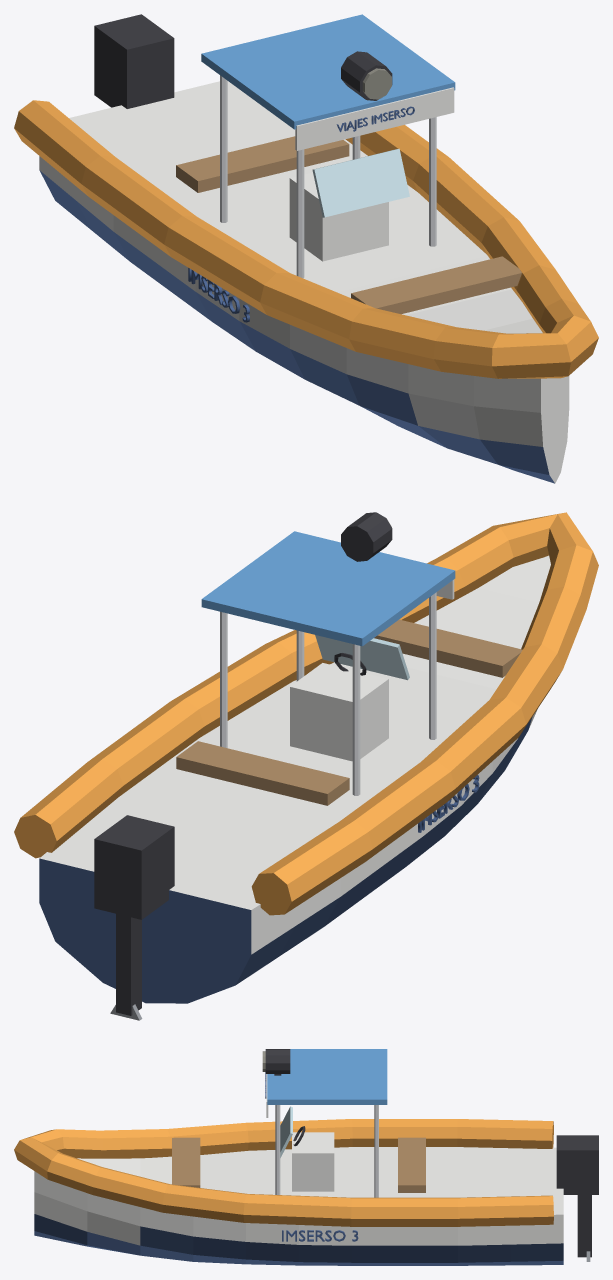
The model's file is CR_Lancha.fbx.
3 views of the same model, one above another, from view 1: azimuth 30°, elevation 25°; view 2: azimuth 150°, elevation 25°; view 3: azimuth 270°, elevation 25° (orthographic). The views are drawn at different scales.
Visible parts, largest first — view 1: CR_Lancha; view 2: CR_Lancha; view 3: CR_Lancha.
Boxes of the visible parts, x1,y1,x2,y2 form: CR_Lancha: (14, 14, 598, 483); CR_Lancha: (14, 512, 598, 1020); CR_Lancha: (14, 1049, 598, 1265).
Bounding box in the file's own units: 3.08 × 3.25 × 8.29.
